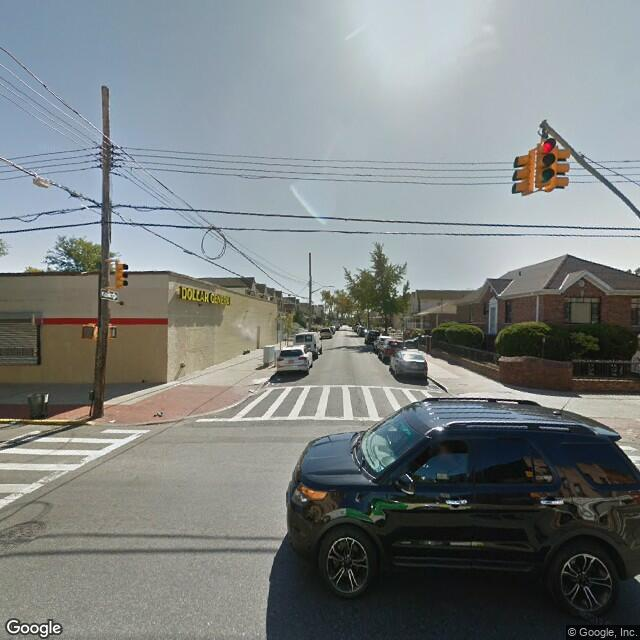litter: (104, 418, 129, 426), (148, 410, 171, 418)
